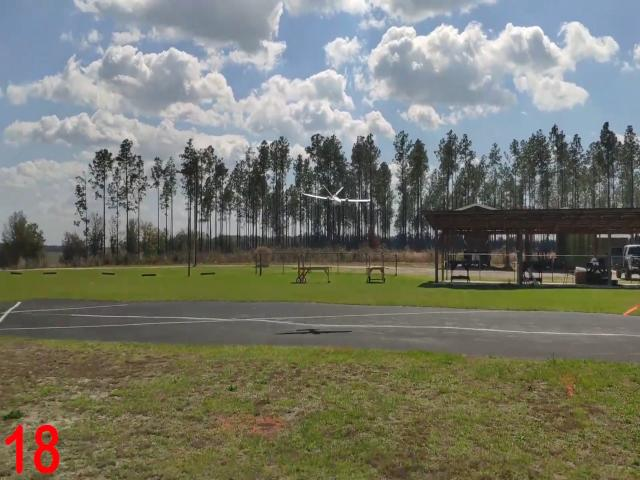plane: (302, 184, 372, 207)
